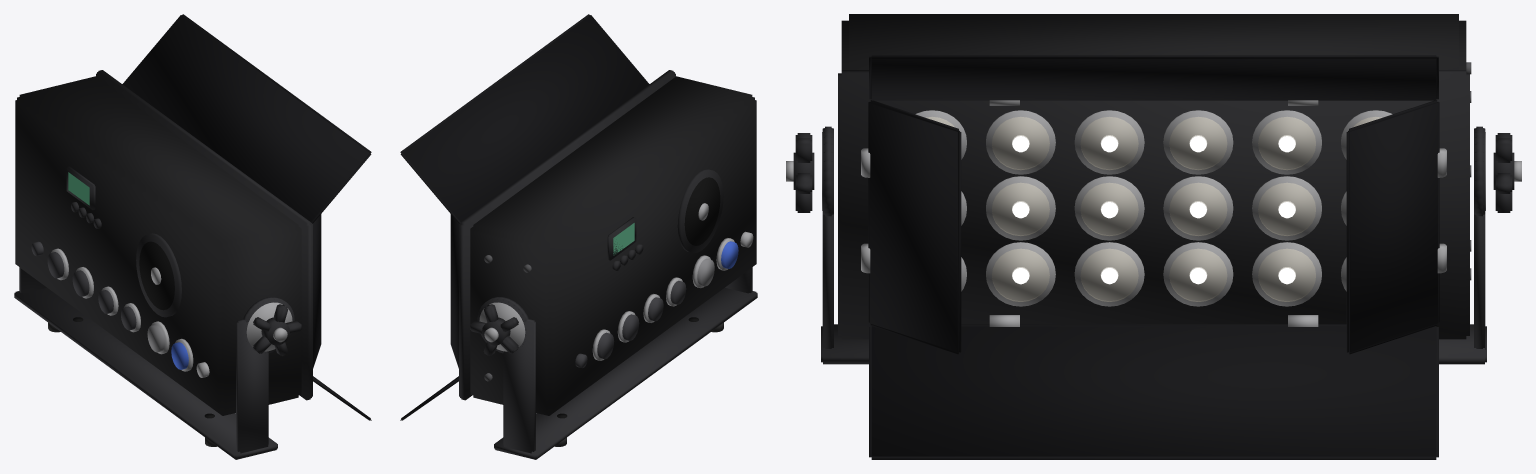
3 renders of one model, left to right at view 1: azimuth 30°, elevation 25°; view 2: azimuth 150°, elevation 25°; view 3: azimuth 270°, elevation 25°, orthographic. The views are drawn at different scales.
Parts seen in each view (by area): view 1: CLS_Body, CLS_Barn_Top, CLS_Yoke, CLS_FrontFrame, CLS_FanDark, CLS_Barn_Left, CLS_FanPlate, CLS_PivotDisc_L, CLS_DisplayBezel, CLS_Display, CLS_PConIn, CLS_PConOut (+2 smaller); view 2: CLS_Body, CLS_Barn_Top, CLS_Yoke, CLS_FrontFrame, CLS_FanDark, CLS_Barn_Right, CLS_FanPlate, CLS_PivotDisc_R, CLS_DisplayBezel, CLS_Display, CLS_PConIn, CLS_PConOut (+2 smaller); view 3: CLS_Barn_Bottom, CLS_FrontFrame, CLS_Body, CLS_Barn_Top, CLS_Barn_Left, CLS_Barn_Right, CLS_Yoke, CLS_CupRim_7, CLS_CupRim_10, CLS_CupRim_1, CLS_CupRim_4, CLS_CupRim_8 (+19 smaller).
Boxes of the visible parts, x1=… form: CLS_Body: x1=15, y1=76, x2=301, y2=415; CLS_Barn_Top: x1=122, y1=14, x2=371, y2=223; CLS_Yoke: x1=14, y1=267, x2=294, y2=459; CLS_FrontFrame: x1=96, y1=70, x2=312, y2=400; CLS_FanDark: x1=139, y1=241, x2=174, y2=310; CLS_Barn_Left: x1=313, y1=214, x2=321, y2=368; CLS_FanPlate: x1=136, y1=233, x2=181, y2=317; CLS_PivotDisc_L: x1=246, y1=302, x2=292, y2=351; CLS_DisplayBezel: x1=66, y1=166, x2=95, y2=210; CLS_Display: x1=68, y1=172, x2=89, y2=205; CLS_PConIn: x1=171, y1=342, x2=188, y2=369; CLS_PConOut: x1=147, y1=325, x2=164, y2=352; CLS_Body: x1=470, y1=76, x2=756, y2=415; CLS_Barn_Top: x1=400, y1=14, x2=649, y2=223; CLS_Yoke: x1=477, y1=267, x2=757, y2=459; CLS_FrontFrame: x1=459, y1=70, x2=675, y2=400; CLS_FanDark: x1=684, y1=177, x2=720, y2=245; CLS_Barn_Right: x1=450, y1=214, x2=458, y2=368; CLS_FanPlate: x1=677, y1=169, x2=723, y2=253; CLS_PivotDisc_R: x1=479, y1=302, x2=525, y2=351; CLS_DisplayBezel: x1=607, y1=217, x2=636, y2=260; CLS_Display: x1=613, y1=223, x2=634, y2=255; CLS_PConIn: x1=721, y1=241, x2=738, y2=268; CLS_PConOut: x1=697, y1=258, x2=714, y2=286; CLS_Barn_Bottom: x1=869, y1=324, x2=1438, y2=459; CLS_FrontFrame: x1=838, y1=70, x2=1469, y2=339; CLS_Body: x1=841, y1=14, x2=1466, y2=69; CLS_Barn_Top: x1=869, y1=55, x2=1438, y2=100; CLS_Barn_Left: x1=868, y1=100, x2=961, y2=354; CLS_Barn_Right: x1=1346, y1=100, x2=1439, y2=354; CLS_Yoke: x1=821, y1=126, x2=1486, y2=364; CLS_CupRim_7: x1=986, y1=176, x2=1055, y2=240; CLS_CupRim_10: x1=1252, y1=176, x2=1321, y2=240; CLS_CupRim_1: x1=986, y1=242, x2=1055, y2=306; CLS_CupRim_4: x1=1252, y1=242, x2=1321, y2=306; CLS_CupRim_8: x1=1074, y1=176, x2=1144, y2=240.
Size of the model in its own units: 0.1552 by 0.237 by 0.391.
